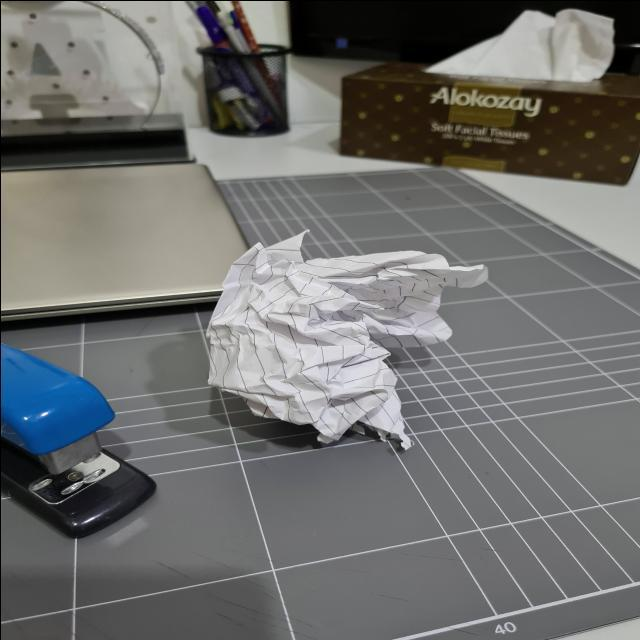Paper: (203, 230, 473, 456)
